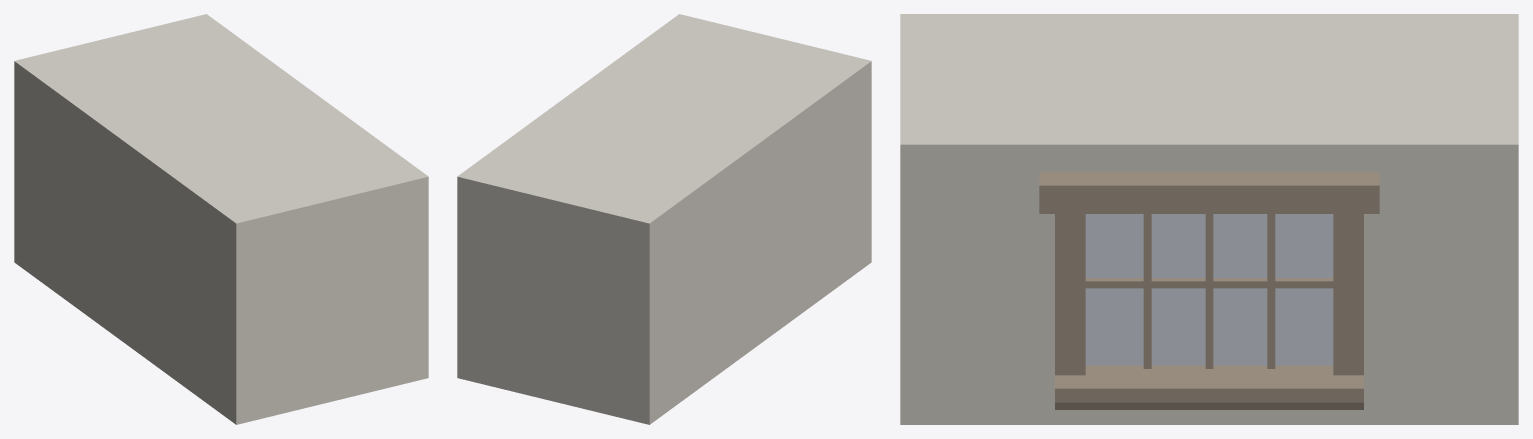
File: Stucco_Window_Double_Wide.glb
3 views of the same model, side by side, from view 1: azimuth 30°, elevation 25°; view 2: azimuth 150°, elevation 25°; view 3: azimuth 270°, elevation 25° (orthographic). The views are drawn at different scales.
Visible parts, largest first — view 1: object1; view 2: object1; view 3: object1, object2, object3.
Part boxes in pixels (left/top/right/bottom): object1: left=14, top=14, right=428, bottom=424; object1: left=457, top=14, right=871, bottom=424; object1: left=900, top=14, right=1518, bottom=424; object2: left=1039, top=172, right=1379, bottom=409; object3: left=1085, top=214, right=1333, bottom=368.
Bounding box in the file's own units: 1.15 × 1 × 2.
